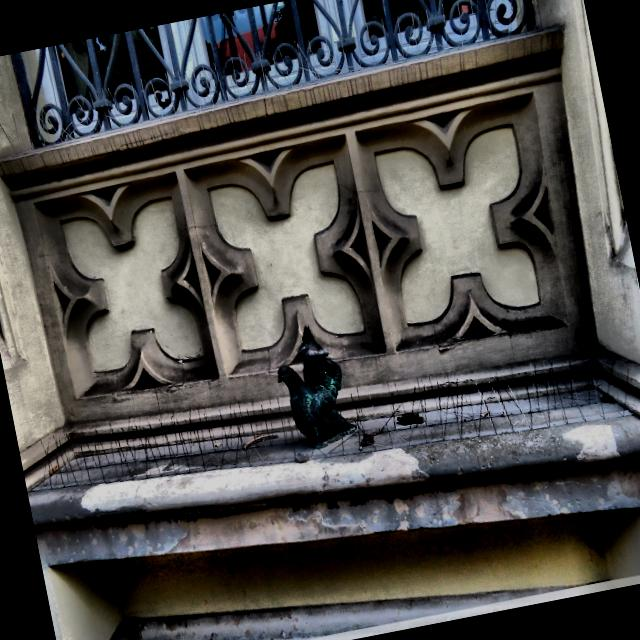Golebnik: (278, 325, 351, 448)
